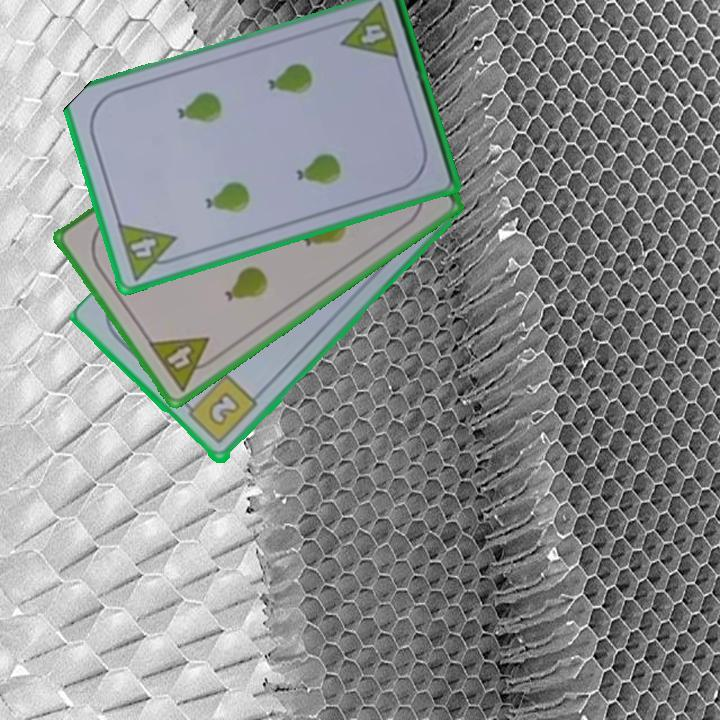2b: (179, 371, 260, 448)
4p: (144, 333, 224, 395), (113, 220, 185, 283), (332, 1, 402, 64)
